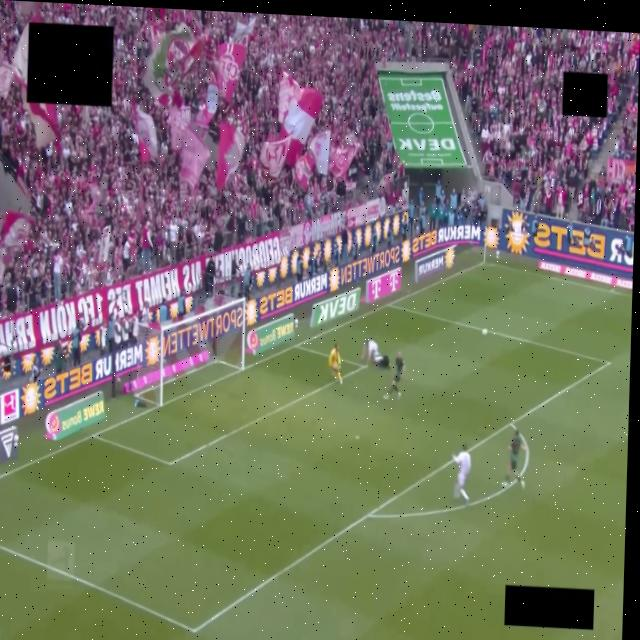ball: (481, 329, 487, 336)
player: (501, 429, 524, 489), (452, 445, 470, 503), (383, 352, 404, 399), (361, 340, 389, 369), (329, 344, 341, 384)
